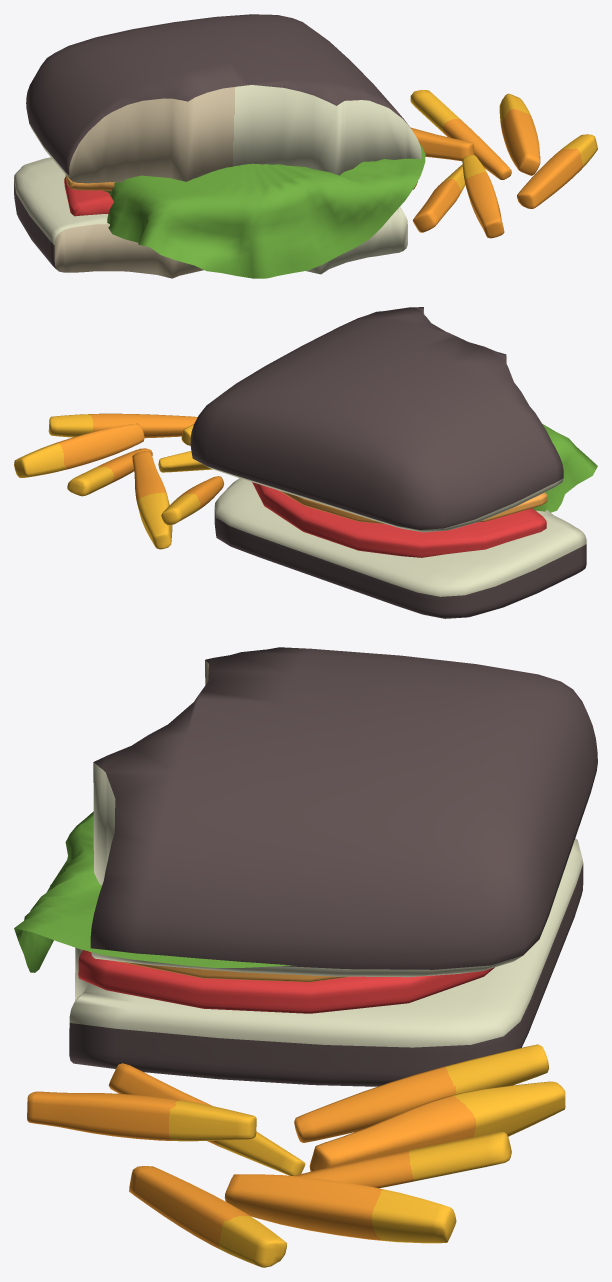
File: sandwich.fbx
3 renders of one model, top to bottom at view 1: azimuth 30°, elevation 25°; view 2: azimuth 150°, elevation 25°; view 3: azimuth 270°, elevation 25°, orthographic. The views are drawn at different scales.
Visible parts, largest first — view 1: sandwich, Cube.019, Cube.017, Cube.016, Cube.014, Cube.013, Cube.015; view 2: sandwich, Cube.016, Cube.019, Cube.015, Cube.017, Cube.018, Cube.013; view 3: sandwich, Cube.016, Cube.015, Cube.014, Cube.018, Cube.019, Cube.017, Cube.013.
Boxes of the visible parts, x1,y1,x2,y2 form: sandwich: (14,14,425,278); Cube.019: (517,134,597,208); Cube.017: (410,89,511,179); Cube.016: (499,93,540,175); Cube.014: (462,154,504,238); Cube.013: (412,164,465,232); Cube.015: (410,127,474,161); sandwich: (190,307,597,618); Cube.016: (14,423,144,477); Cube.019: (48,413,197,438); Cube.015: (132,451,172,549); Cube.017: (67,448,152,496); Cube.018: (161,476,223,525); Cube.013: (158,451,212,472); sandwich: (14,647,597,1086); Cube.016: (224,1174,456,1243); Cube.015: (309,1081,565,1171); Cube.014: (27,1091,256,1141); Cube.018: (294,1044,548,1142); Cube.019: (129,1166,286,1267); Cube.017: (294,1131,511,1188); Cube.013: (108,1063,305,1175).
Size of the model in its own units: 242 by 77.49 by 141.
